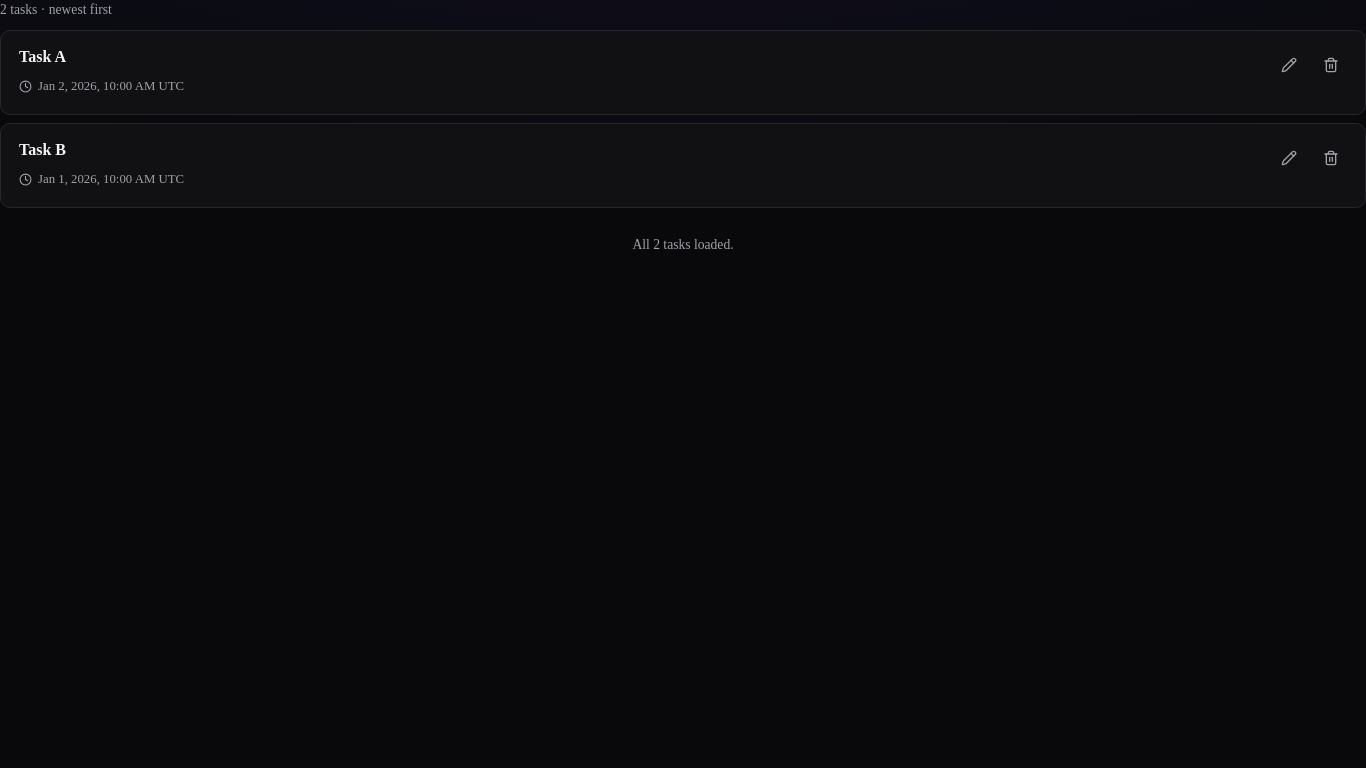
Test: TaskList optimistic delete › removes the task right away and confirms when the server succeeds
Later steps or results of the test are not shown.
Click the button named "Delete Task A".
click(1331, 65)  # box 1311,45 -> 1351,85
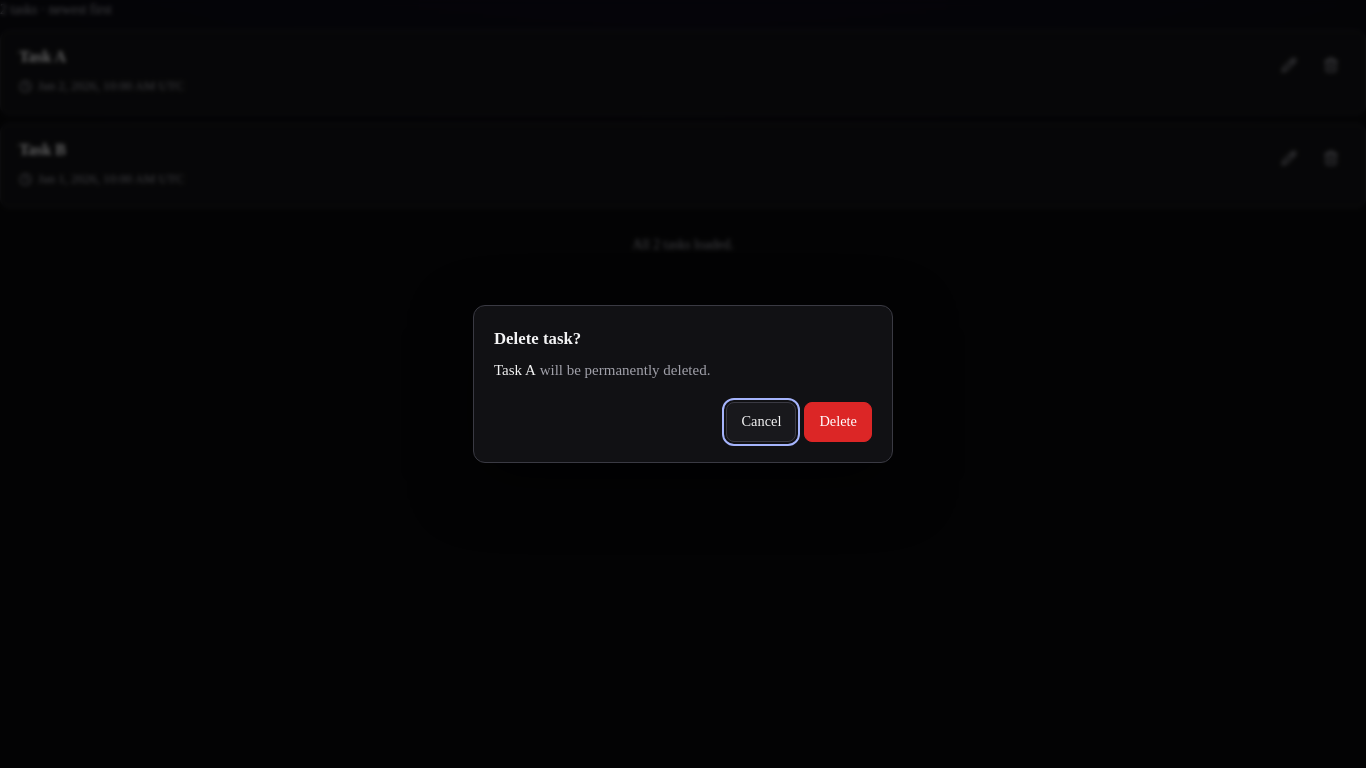
Click the button "Delete".
click(838, 422)  # box 804,402 -> 872,442
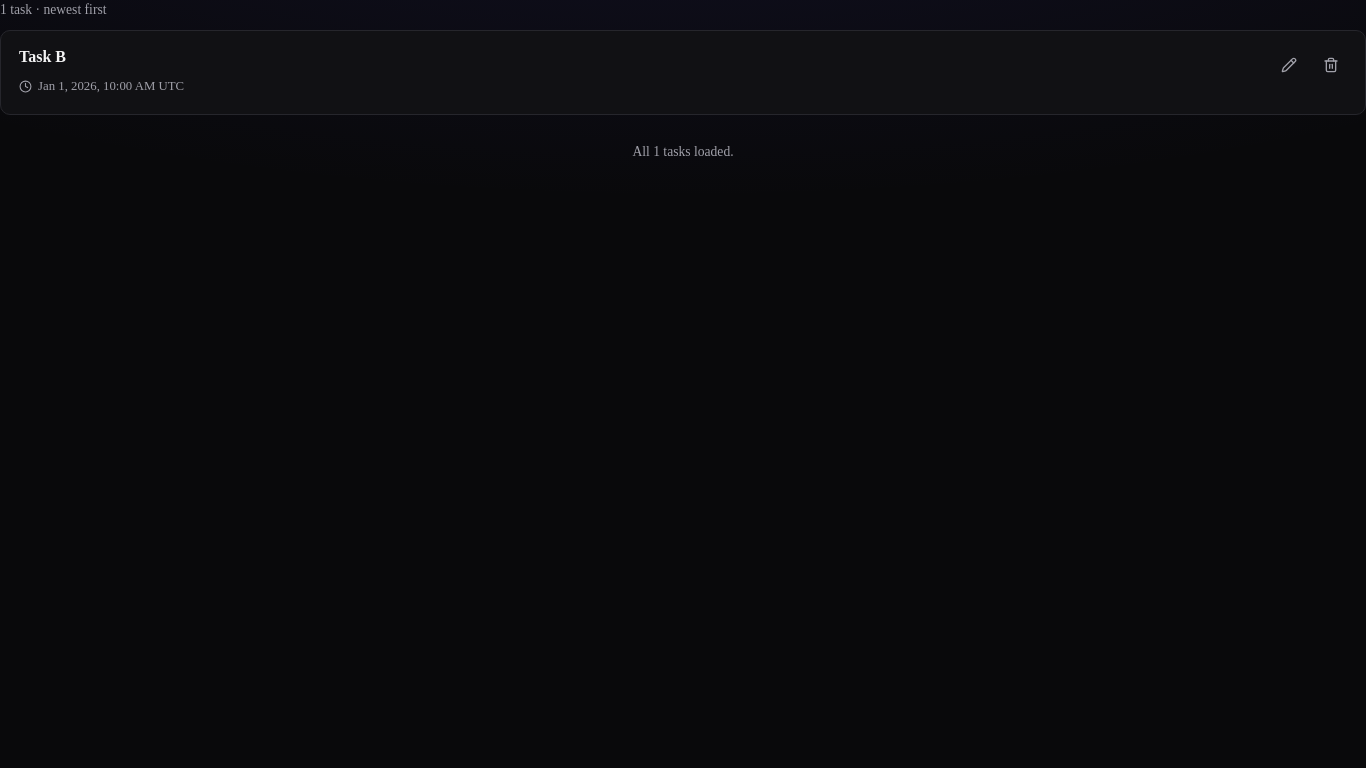
Now the heading "Task A" is gone
